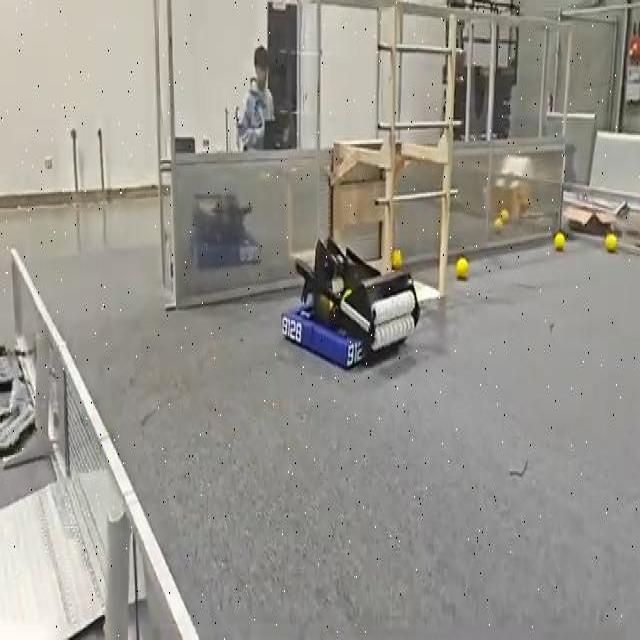Fuel: (455, 256, 468, 279), (554, 231, 564, 251), (605, 233, 616, 251), (391, 249, 401, 268), (499, 208, 509, 222), (493, 217, 503, 231), (500, 209, 509, 224)
